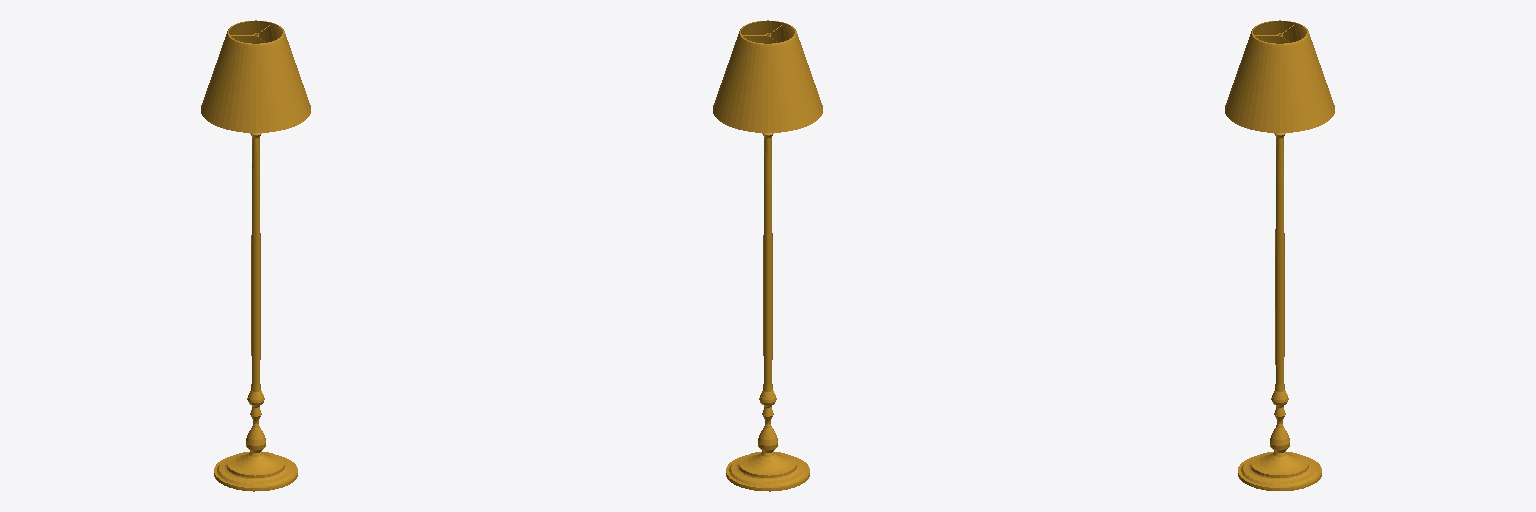
The robot description file, URDF, robot "lamp.urdf":
<?xml version="1.0" ?>
<robot name="lamp.urdf">
  <link concave="yes" name="baseLink">
    <inertial>
      <origin rpy="0 0 0" xyz="0.0 0.0 0.0"/>
       <mass value=".0"/>
       <inertia ixx="0" ixy="0" ixz="0" iyy="0" iyz="0" izz="0"/>
    </inertial>

    <visual>
      <origin rpy="1.57075 0 0" xyz="0 0 0"/>
      <geometry>
        <mesh filename="lamp.obj" scale="1 1 1"/>
      </geometry>
       <material name="yellow">
        <color rgba="0.8 0.6 0.2 1"/>
      </material>
    </visual>

    <collision concave="yes">
      <origin rpy="1.57075 0 0" xyz="0 0 0"/>
      <geometry>
	 	    <mesh filename="lamp.obj" scale="1 1 1"/>
      </geometry>
    </collision>
  </link>
</robot>

--- What the picture shows (computed from the rendered views, not written in the file) ---
3 views of the same robot in one strip: view 1: azimuth 30°, elevation 25°; view 2: azimuth 150°, elevation 25°; view 3: azimuth 270°, elevation 25° (orthographic).
Robot: lamp.urdf — 1 links, 0 joints (none); root link baseLink; default pose: all joints at 0.
Visible links, largest first — view 1: baseLink; view 2: baseLink; view 3: baseLink.
Boxes of the visible links, x1,y1,x2,y2 form: baseLink: (201, 20, 310, 491); baseLink: (713, 20, 822, 491); baseLink: (1225, 20, 1334, 490).
Bounding box of the posed robot: 0.3558 × 0.3558 × 1.56 m (x, y, z).
Meshes: 1 distinct files referenced, 1 mesh visuals loaded (1 OBJ).